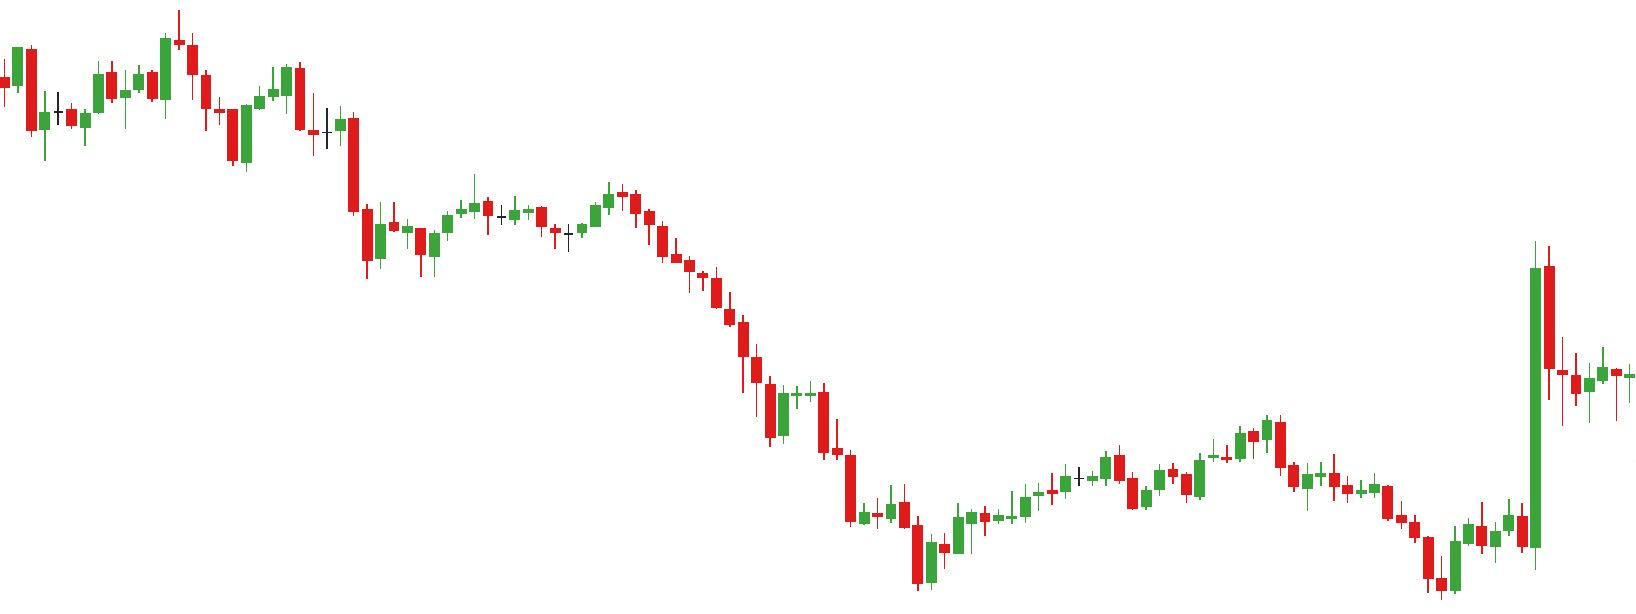sell: (10, 7, 185, 92)
